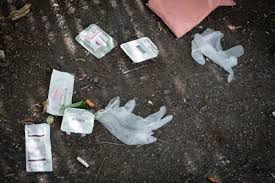cardboard: (144, 0, 240, 41)
plastic: (97, 95, 176, 151), (192, 28, 246, 84), (14, 119, 62, 174), (42, 64, 77, 115), (121, 37, 169, 70), (77, 23, 115, 56), (62, 105, 93, 137)
